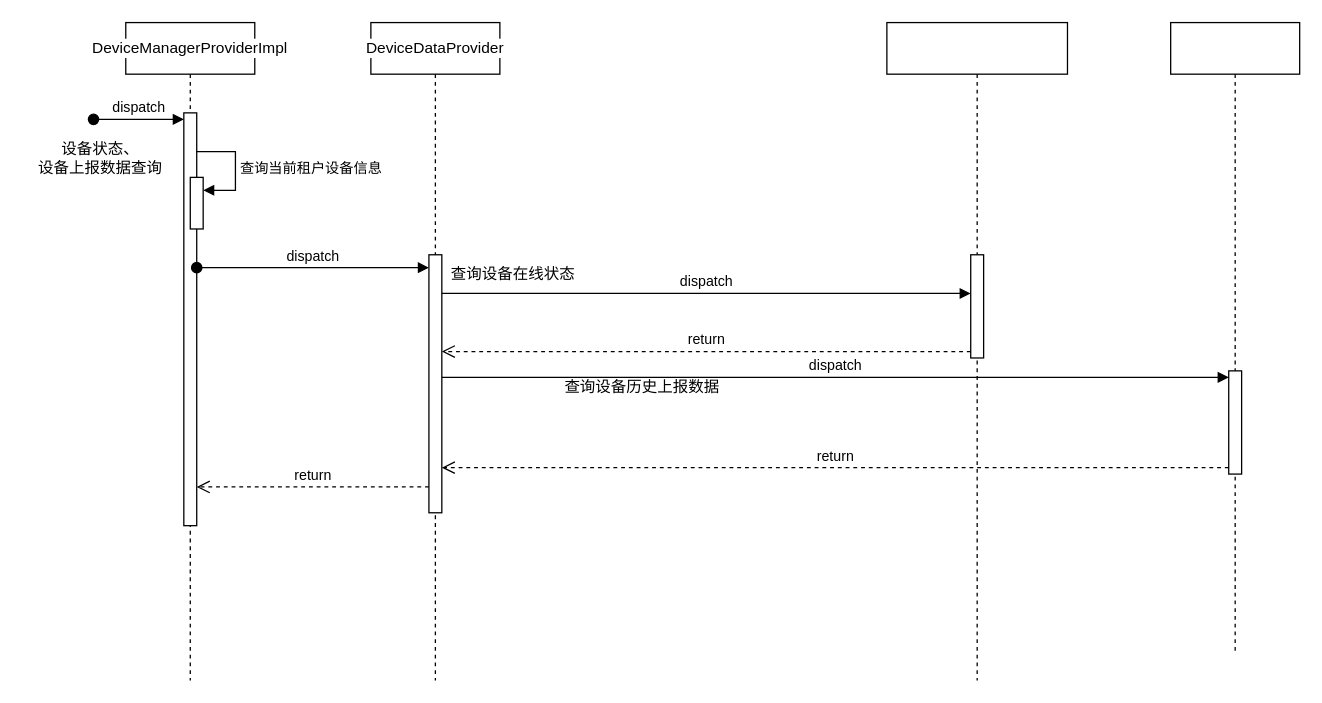
The diagram is 1322 pixels wide and 703 high, and some of its shapes have lost their labels. Here are the shapes that lost their labels. From the top down, the box of each, then its label:
(886, 21, 1067, 680): RedisRepositoryService
(1169, 21, 1300, 655): RepositoryService
